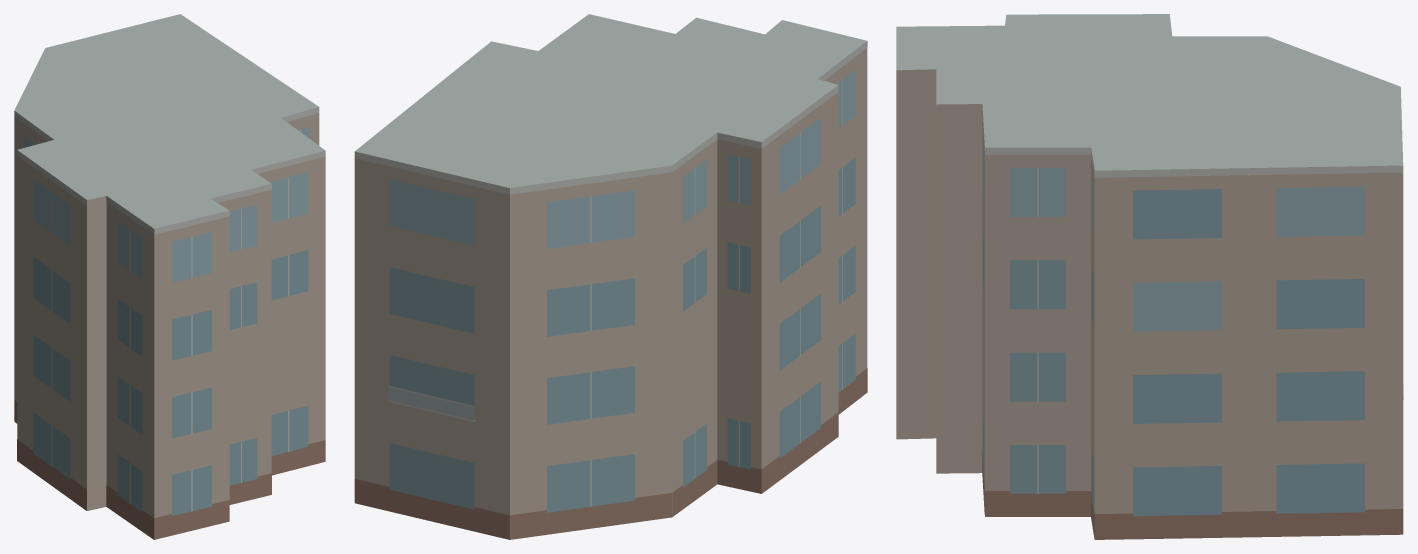
Rendered from survey-upis-33043556.glb.
3 views of the same model, side by side, from view 1: azimuth 30°, elevation 25°; view 2: azimuth 150°, elevation 25°; view 3: azimuth 270°, elevation 25° (orthographic). The views are drawn at different scales.
Parts seen in each view (by area): view 1: survey-upis-33043556.tmp; view 2: survey-upis-33043556.tmp; view 3: survey-upis-33043556.tmp.
Part boxes in pixels (x1,y1,x2,y2): survey-upis-33043556.tmp: [14, 14, 325, 539]; survey-upis-33043556.tmp: [354, 14, 867, 539]; survey-upis-33043556.tmp: [896, 14, 1403, 539].
Bounding box in the file's own units: 11.66 × 12.8 × 15.96.
